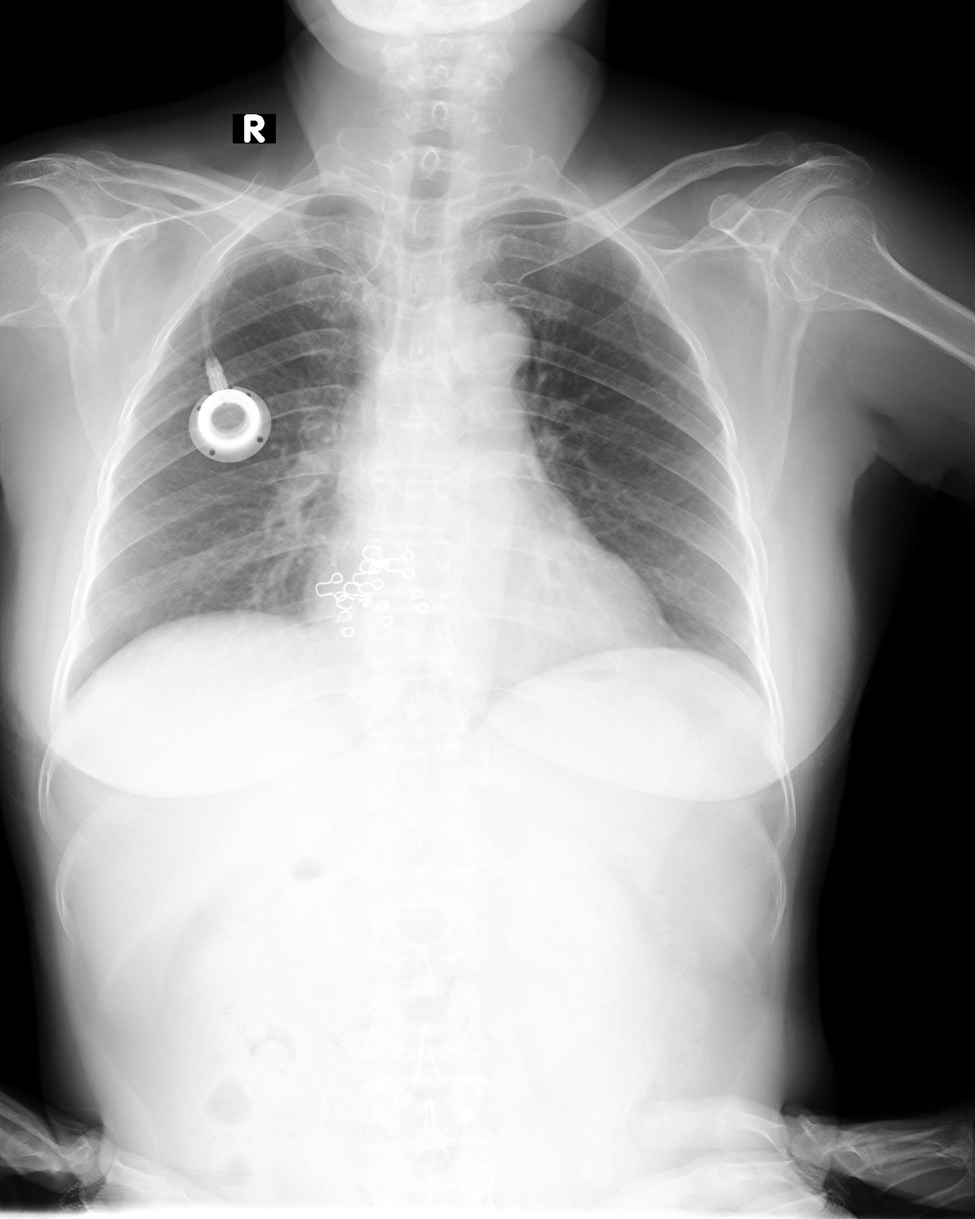Cardiomegaly: (297, 573, 674, 643)
